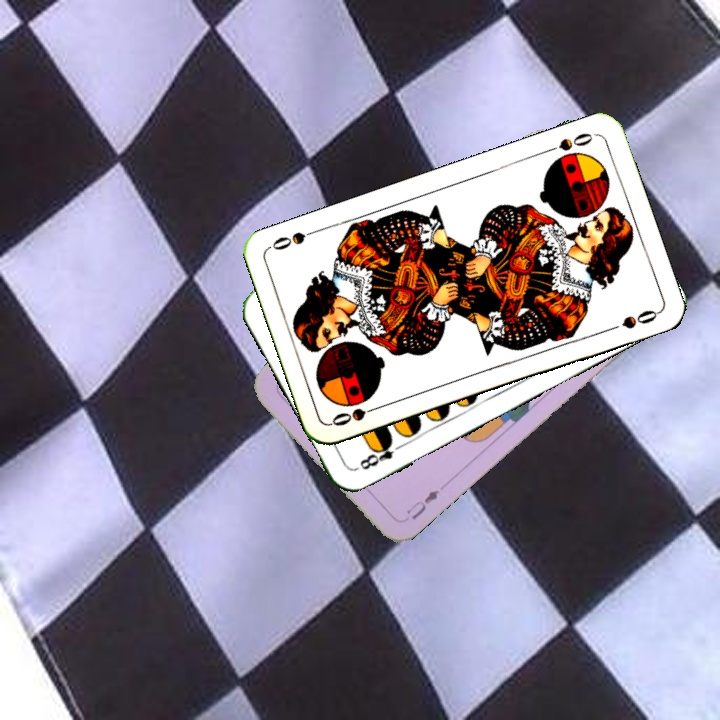E8: (352, 434, 407, 473)
EU: (402, 485, 442, 523)
SO: (327, 401, 385, 429), (541, 129, 598, 156)
